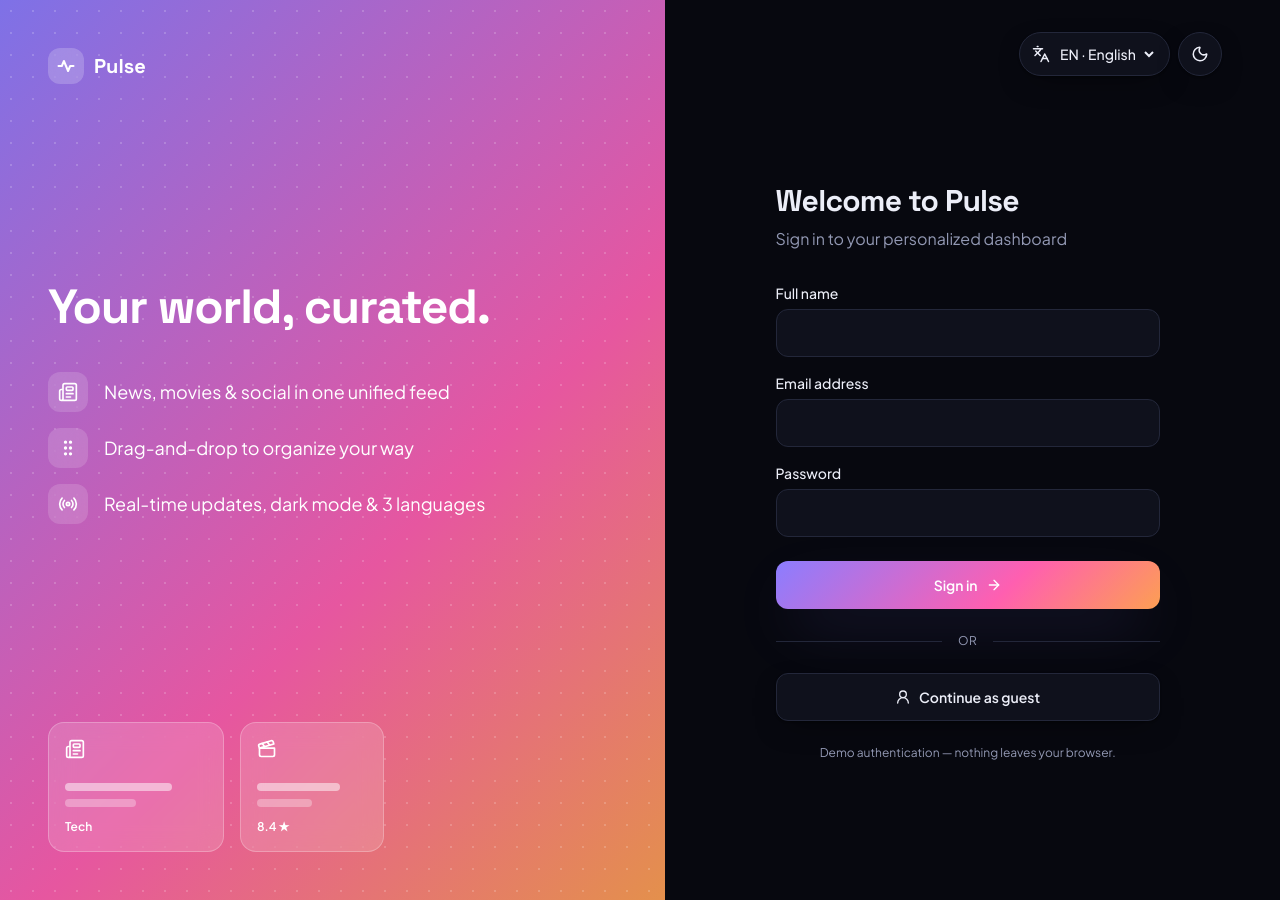
Test: LoginView › shows accessible inline errors and does not log in
Click the button "Sign in": x=968, y=585 [776,561,1160,609]
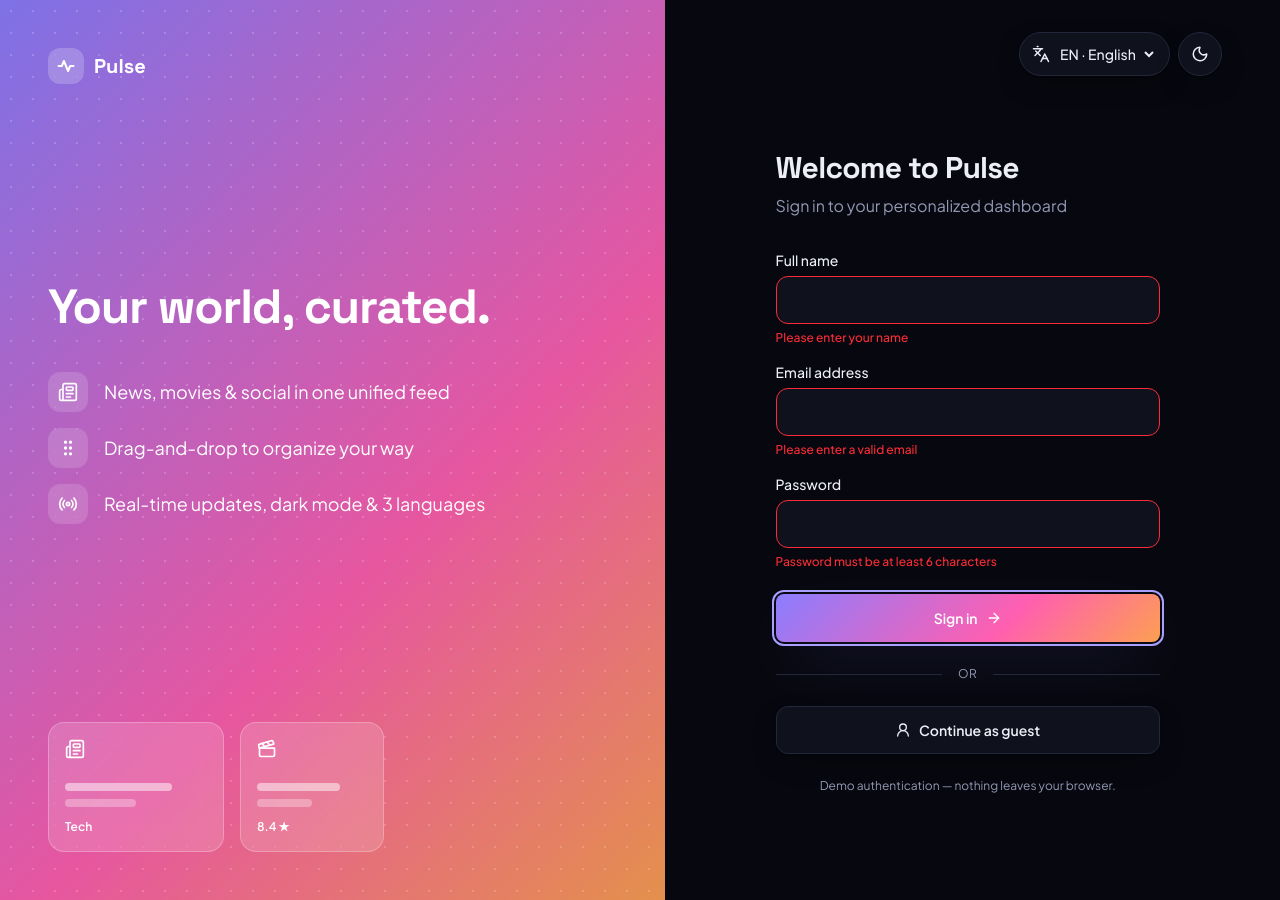
Check: the number of messages is 3, box [776,330,908,345]; [776,442,917,457]; [776,554,997,569]
